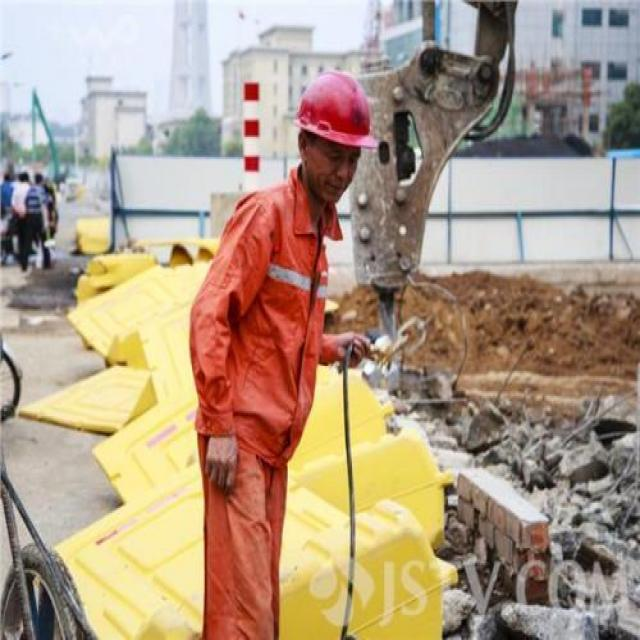hat: (287, 60, 386, 203)
